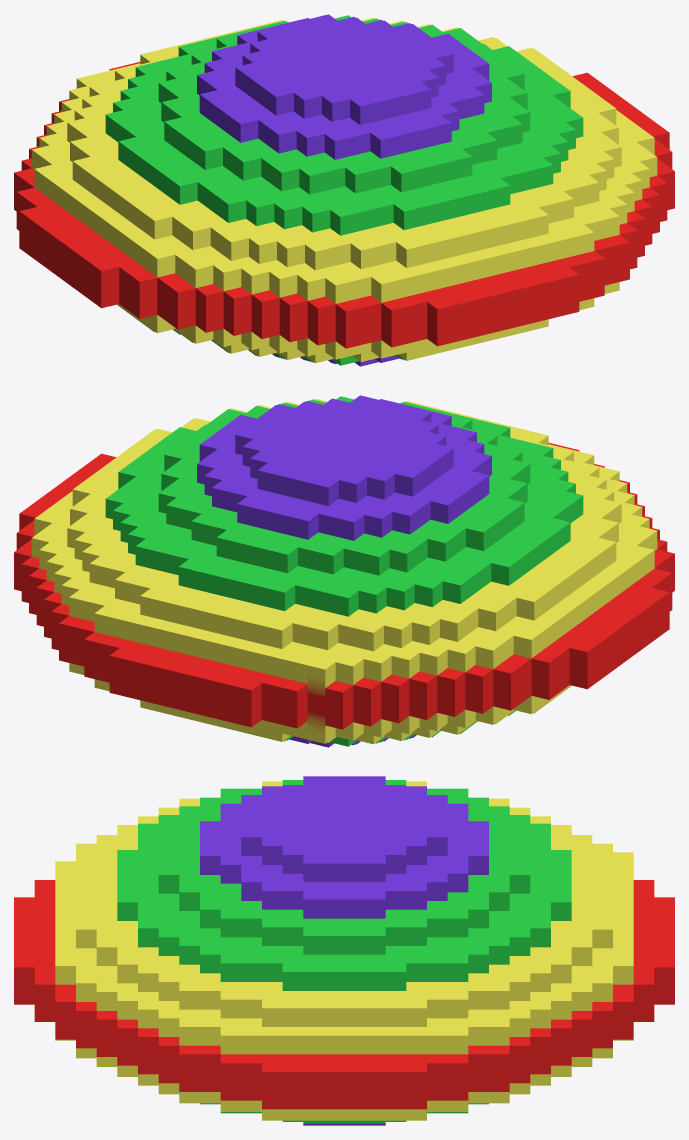
Rendered from Matrix_5.fbx.
The picture shows the model from 3 angles, top to bottom: view 1: azimuth 30°, elevation 25°; view 2: azimuth 150°, elevation 25°; view 3: azimuth 270°, elevation 25°; orthographic projection.
Parts seen in each view (by area): view 1: Matrix_5; view 2: Matrix_5; view 3: Matrix_5.
Part boxes in pixels (x1,y1,x2,y2): Matrix_5: (14, 14, 674, 366); Matrix_5: (14, 395, 674, 747); Matrix_5: (14, 776, 674, 1125).
Size of the model in its own units: 32 by 14 by 32.
